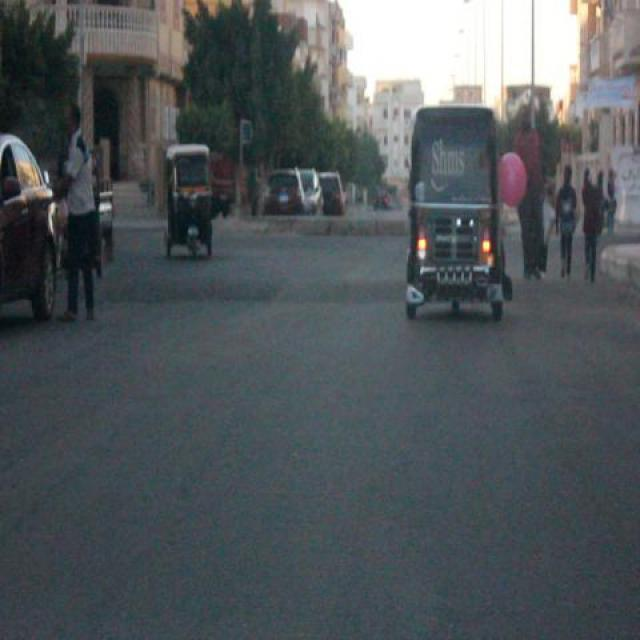Unmarked Bump: (102, 270, 406, 306), (510, 276, 640, 310)
